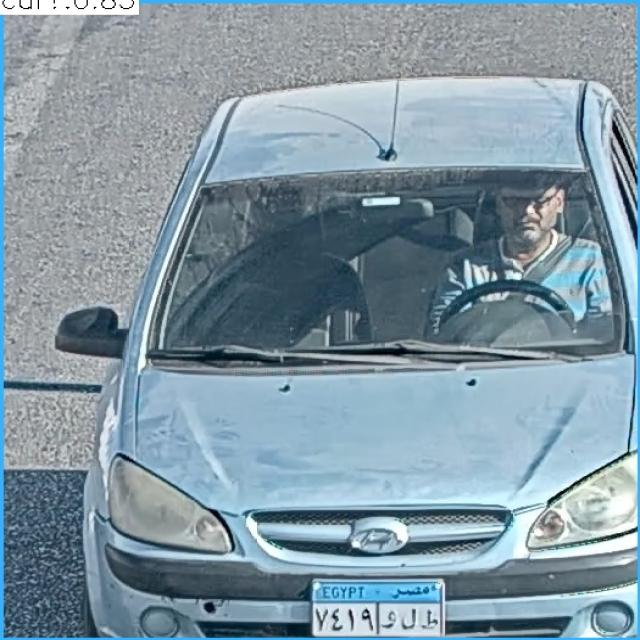windshield: (154, 188, 618, 364)
